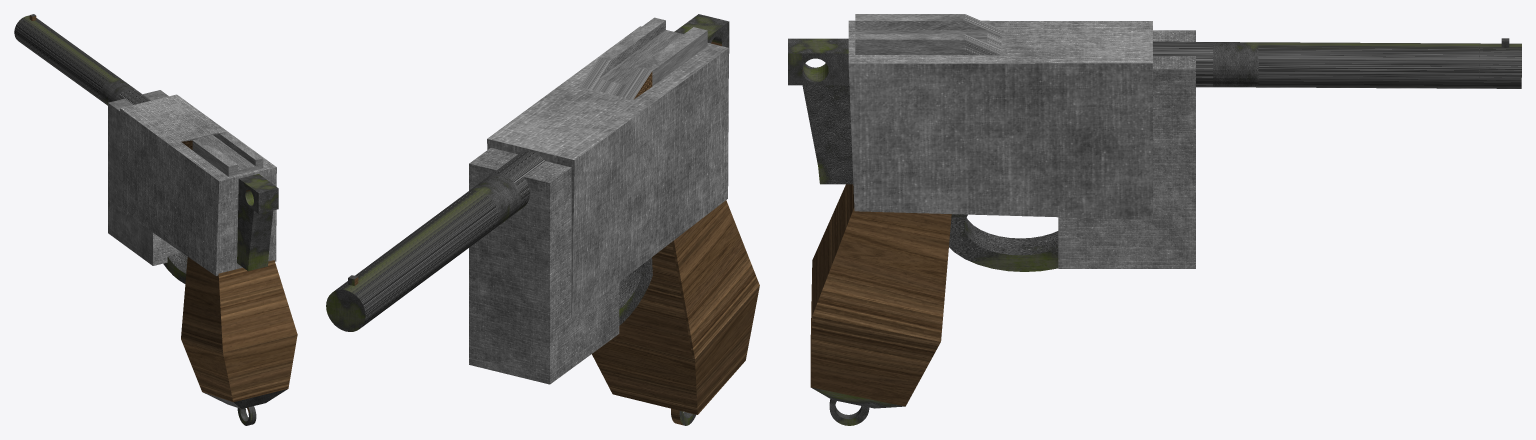
File: mauser1.glb
3 views of the same model, side by side, from view 1: azimuth 30°, elevation 25°; view 2: azimuth 150°, elevation 25°; view 3: azimuth 270°, elevation 25° (orthographic). The views are drawn at different scales.
Parts seen in each view (by area): view 1: ball; view 2: ball; view 3: ball.
Part boxes in pixels (x1=…): ball: x1=14, y1=14, x2=297, y2=425; ball: x1=326, y1=14, x2=759, y2=425; ball: x1=788, y1=14, x2=1521, y2=425.
Bounding box in the file's own units: 0.8465 × 2.76 × 4.62.
Materials: 3 (3 with a texture image).
